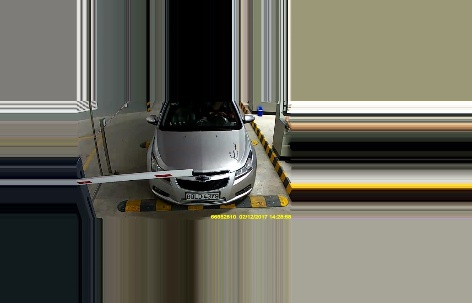plate: (185, 190, 221, 201)
